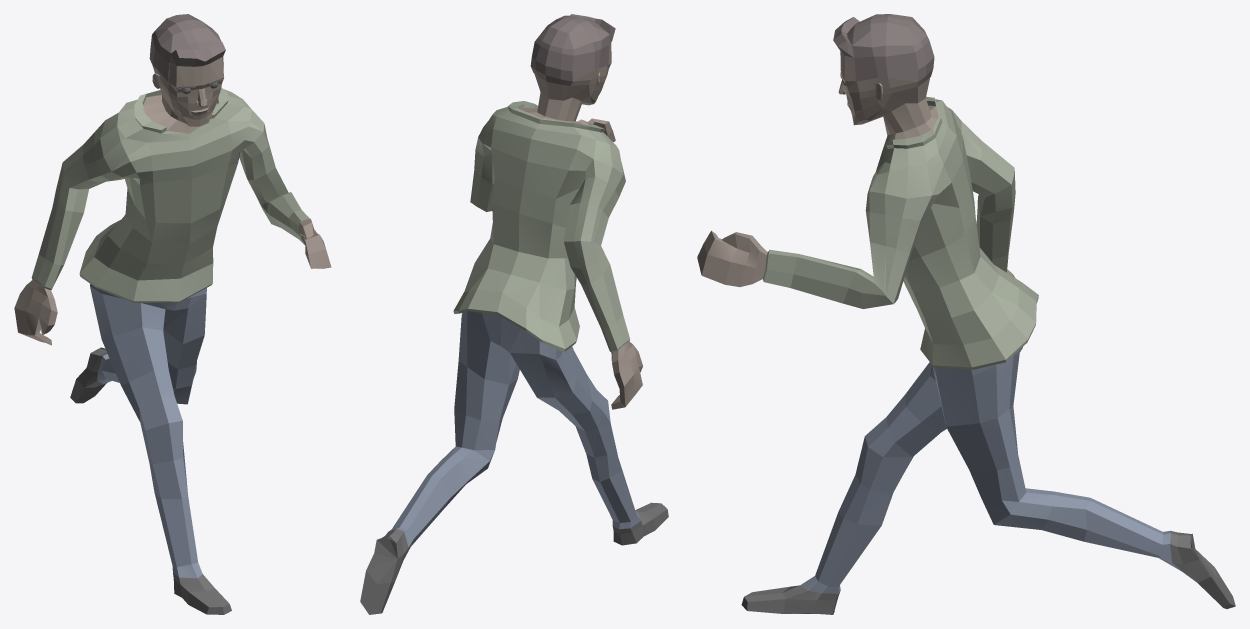
The model's file is run_2.glb.
3 renders of one model, left to right at view 1: azimuth 30°, elevation 25°; view 2: azimuth 150°, elevation 25°; view 3: azimuth 270°, elevation 25°, orthographic. The views are drawn at different scales.
Parts seen in each view (by area): view 1: BaseHuman_baked; view 2: BaseHuman_baked; view 3: BaseHuman_baked.
Boxes of the visible parts, x1,y1,x2,y2 form: BaseHuman_baked: (14, 14, 331, 614); BaseHuman_baked: (360, 14, 668, 614); BaseHuman_baked: (697, 14, 1235, 614).
Bounding box in the file's own units: 1.83 × 4.48 × 3.59.
